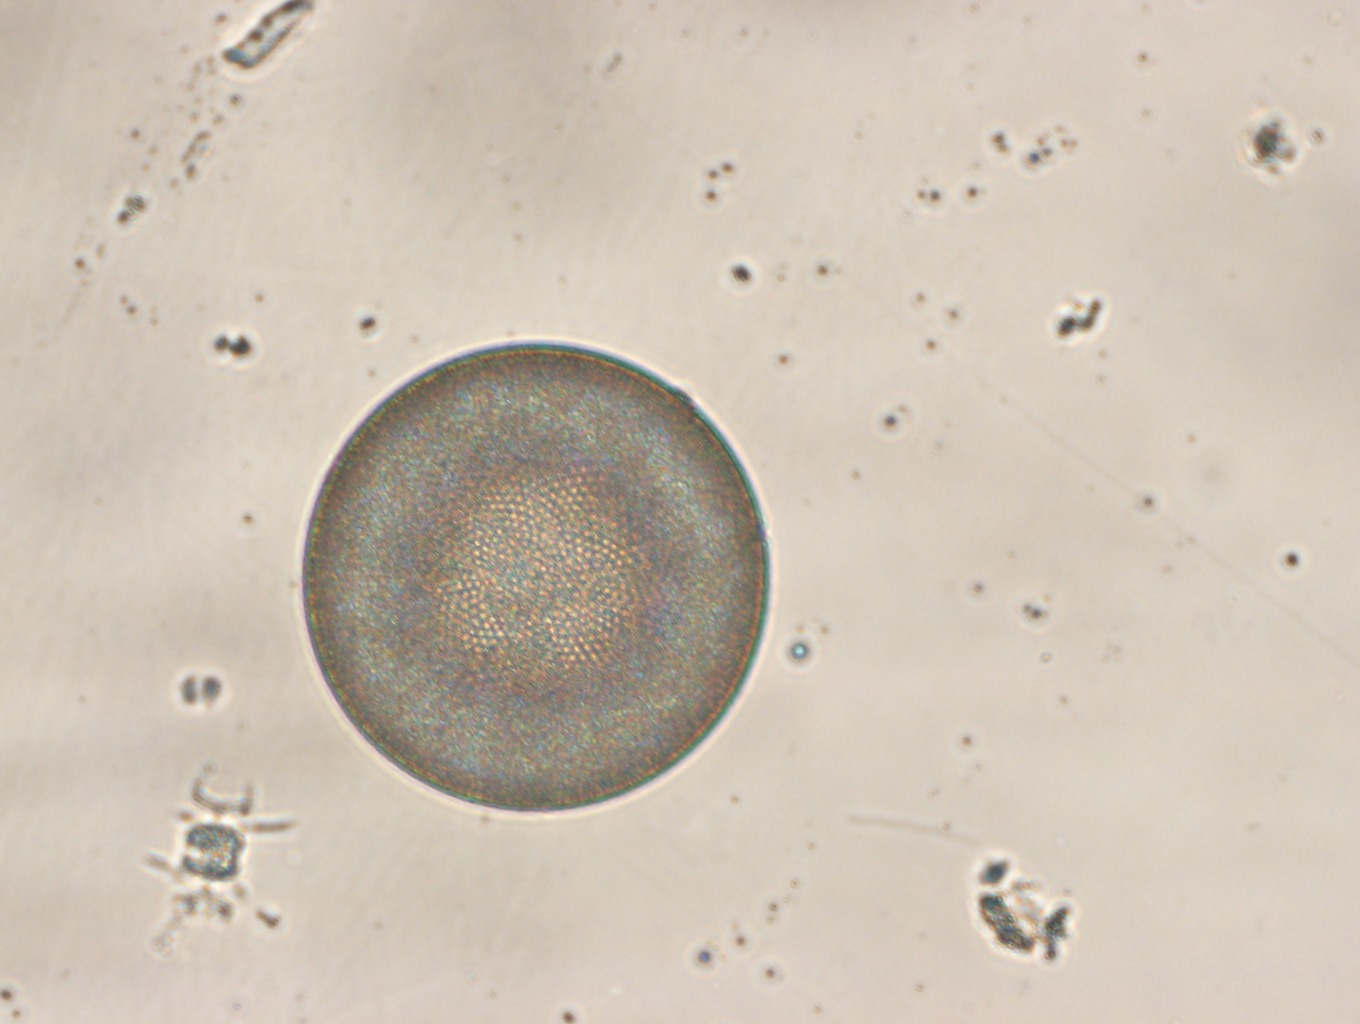chaetoceros: (149, 780, 297, 899)
coscinodiscus: (294, 337, 775, 826)
